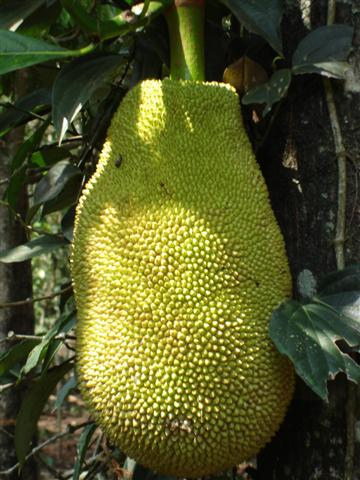jackfruit: (68, 0, 295, 478)
